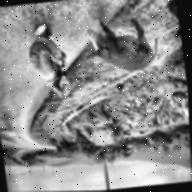boar: (81, 13, 162, 77), (164, 0, 181, 39)
